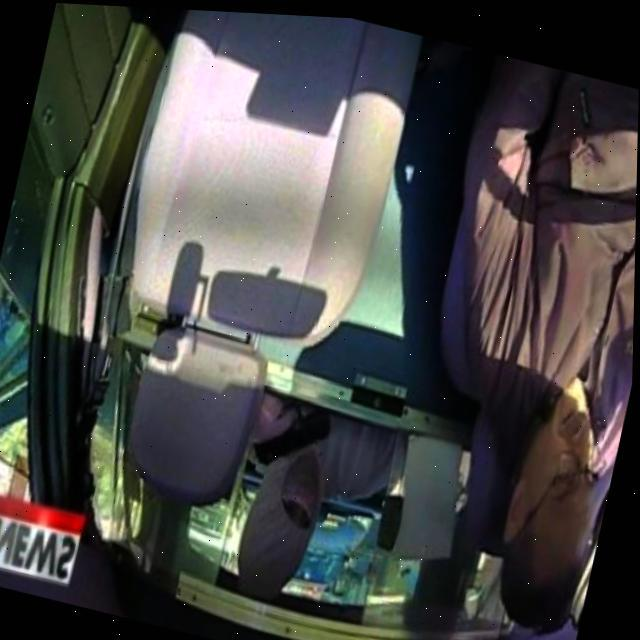gun: (238, 382, 336, 478)
